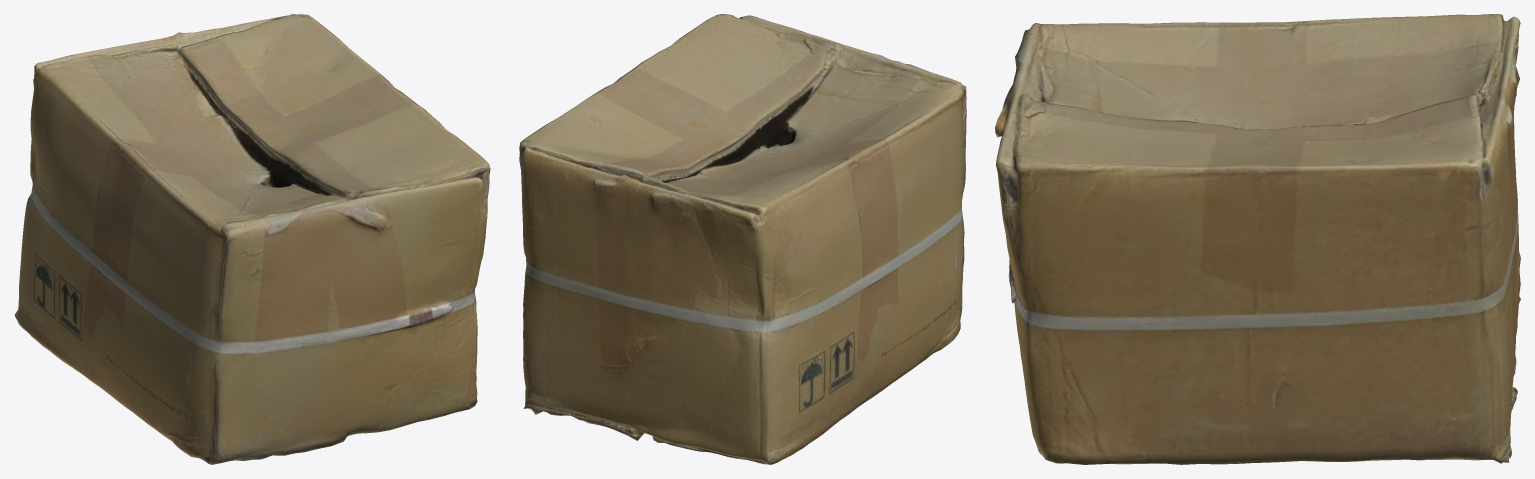
The model's file is cardboard_box.glb.
3 views of the same model, side by side, from view 1: azimuth 30°, elevation 25°; view 2: azimuth 150°, elevation 25°; view 3: azimuth 270°, elevation 25° (orthographic). The views are drawn at different scales.
Parts seen in each view (by area): view 1: cardboard_box_01; view 2: cardboard_box_01; view 3: cardboard_box_01.
Part boxes in pixels (left/top/right/bottom): cardboard_box_01: left=14, top=14, right=490, bottom=464; cardboard_box_01: left=519, top=14, right=966, bottom=464; cardboard_box_01: left=995, top=14, right=1520, bottom=464.
Size of the model in its own units: 0.387 by 0.3418 by 0.5159.
1 material, 1 textured.
